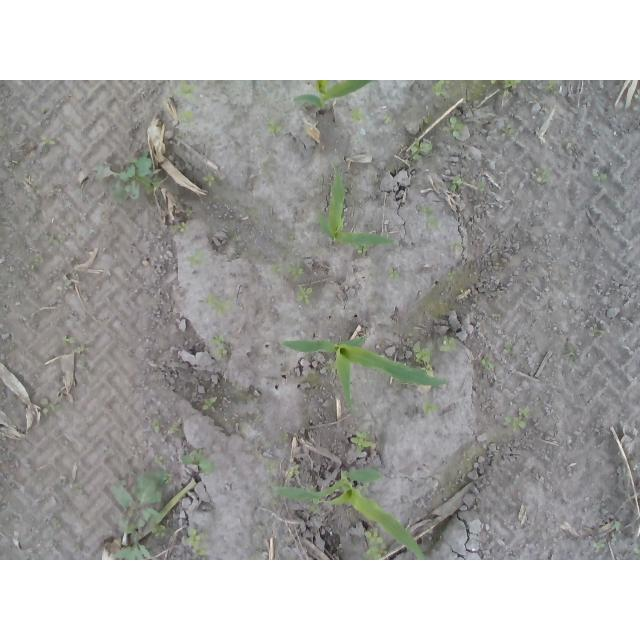Maize: (270, 468, 426, 561), (281, 336, 450, 410), (318, 163, 398, 248), (293, 80, 374, 116)
Weeds: (110, 468, 172, 560), (93, 151, 159, 210), (183, 447, 218, 473), (182, 528, 209, 561), (365, 527, 387, 560), (504, 406, 529, 432), (206, 293, 234, 315), (409, 137, 434, 160), (417, 202, 439, 227), (351, 430, 374, 453), (176, 80, 200, 100), (412, 340, 433, 362), (448, 110, 464, 138), (264, 119, 288, 137), (38, 397, 62, 415), (210, 335, 226, 360), (184, 250, 208, 266), (296, 286, 313, 306), (611, 519, 624, 545), (439, 334, 457, 352), (287, 264, 306, 281), (178, 109, 192, 128), (589, 539, 608, 553), (421, 401, 440, 415), (432, 80, 447, 97), (350, 106, 365, 122), (500, 121, 516, 135), (26, 256, 39, 273), (450, 176, 463, 193), (201, 173, 215, 188), (591, 168, 606, 182), (48, 233, 63, 246), (287, 464, 302, 477), (171, 222, 186, 235), (266, 461, 279, 475), (202, 397, 215, 411), (387, 266, 401, 279), (503, 80, 523, 89), (383, 112, 394, 128), (152, 455, 168, 466), (308, 499, 320, 513), (449, 240, 464, 251), (482, 357, 495, 369), (40, 135, 55, 145), (152, 418, 161, 434), (353, 245, 367, 255), (271, 263, 285, 273), (541, 167, 549, 184), (632, 544, 640, 561), (481, 80, 496, 89), (418, 115, 430, 125), (280, 430, 290, 442), (53, 519, 63, 530), (503, 343, 513, 353), (547, 80, 557, 89), (64, 335, 73, 345), (167, 424, 177, 433), (448, 271, 457, 281), (184, 207, 192, 217), (481, 181, 488, 191), (342, 217, 349, 227), (320, 175, 325, 185), (344, 185, 349, 194)
